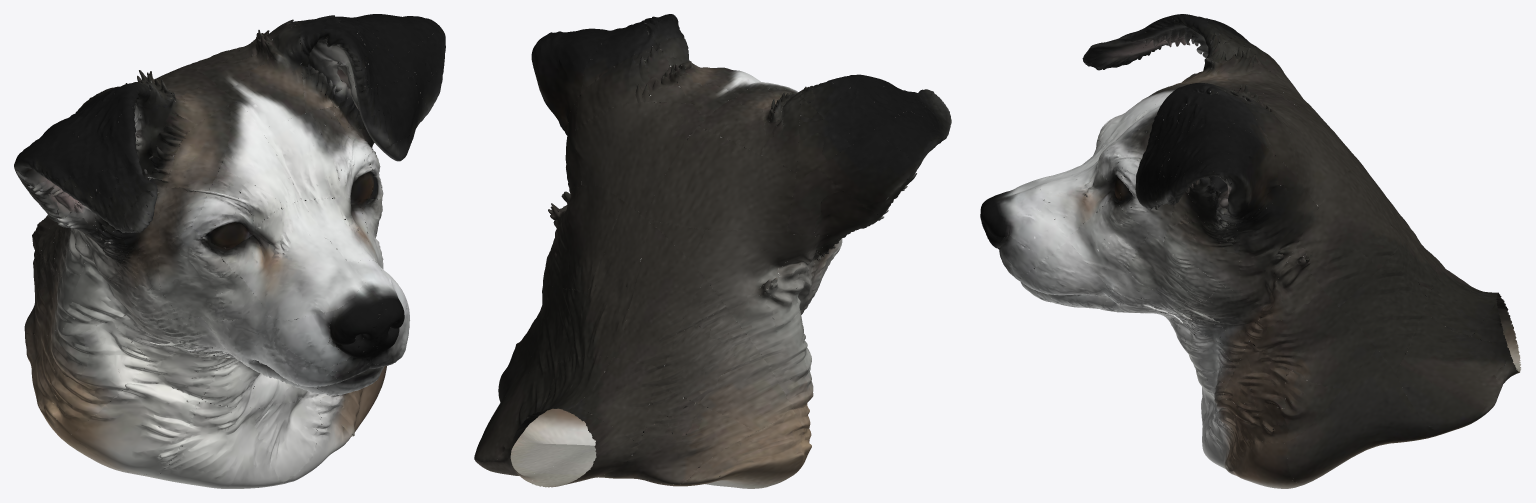
File: cane_full.glb
The picture shows the model from 3 angles, left to right: view 1: azimuth 30°, elevation 25°; view 2: azimuth 150°, elevation 25°; view 3: azimuth 270°, elevation 25°; orthographic projection. The views are drawn at different scales.
Parts seen in each view (by area): view 1: LOW; view 2: LOW; view 3: LOW.
Boxes of the visible parts, box(x1,y1,x2,y2) form: LOW: box(14, 14, 445, 488); LOW: box(474, 14, 951, 488); LOW: box(980, 14, 1520, 488).
Bounding box in the file's own units: 1.29 × 1.36 × 1.71.
1 material, 1 textured.
